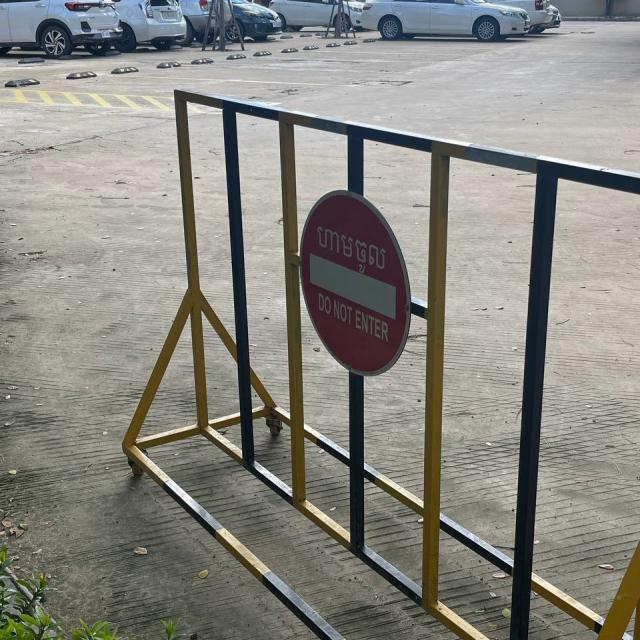Yolov11kh: (309, 217, 390, 282)
